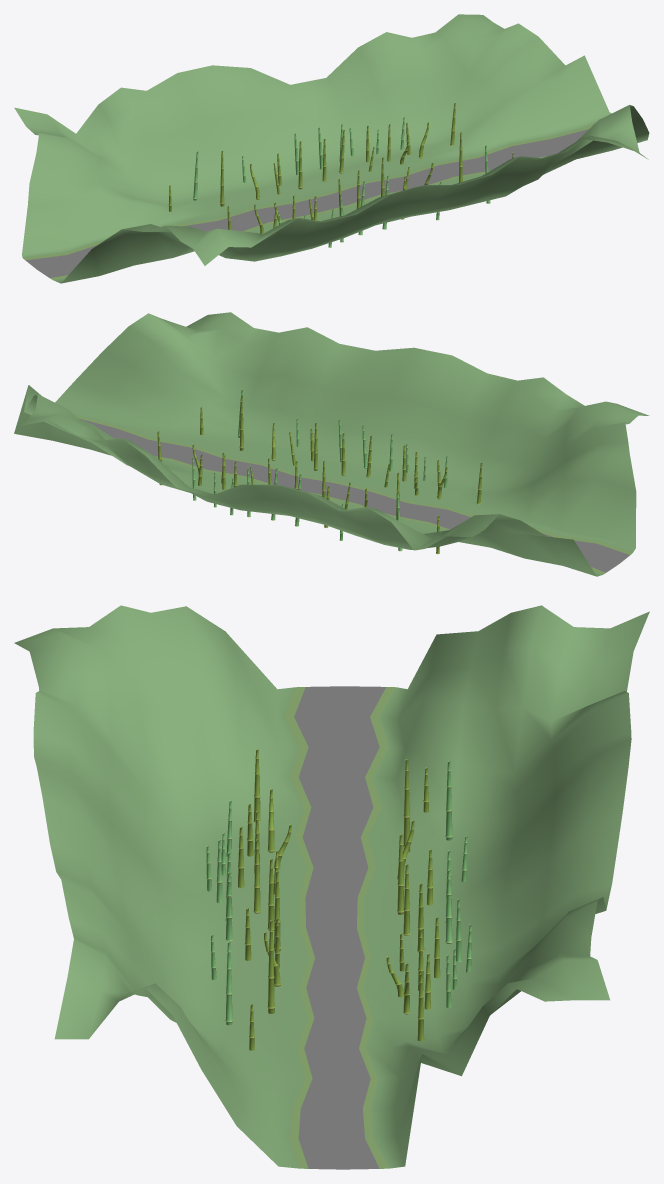
File: bamboo environment 001.fbx
3 views of the same model, one above another, from view 1: azimuth 30°, elevation 25°; view 2: azimuth 150°, elevation 25°; view 3: azimuth 270°, elevation 25° (orthographic). The views are drawn at different scales.
Parts seen in each view (by area): view 1: BG enviro, Cube.012, Cube.000; view 2: BG enviro, Cube.000, Cube.012; view 3: BG enviro, Cube.000, Cube.012.
Part boxes in pixels (box(x1,y1,x2,y2)): BG enviro: box(14, 14, 649, 283); Cube.012: box(168, 102, 455, 211); Cube.000: box(227, 132, 513, 258); BG enviro: box(14, 312, 649, 576); Cube.000: box(200, 389, 482, 504); Cube.012: box(157, 431, 439, 554); BG enviro: box(14, 605, 649, 1169); Cube.000: box(206, 749, 291, 1050); Cube.012: box(386, 759, 471, 1040).
Bounding box in the file's own units: 2392 × 341 × 1330.
